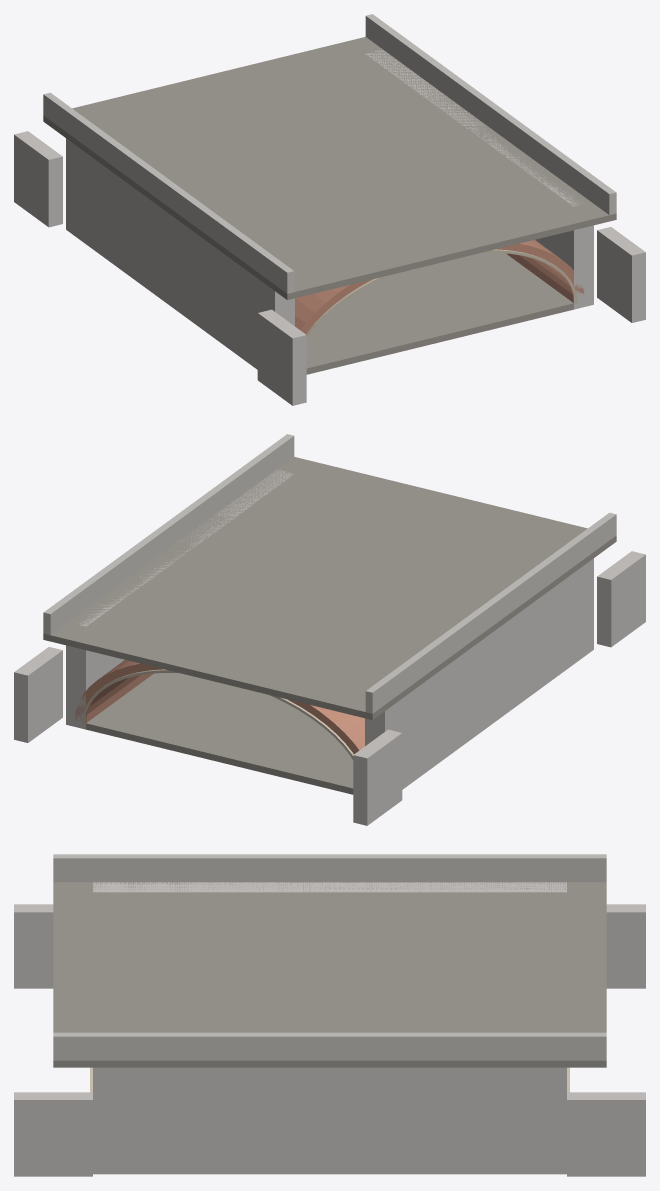
File: cp_winterdale_arch.glb
The picture shows the model from 3 angles, top to bottom: view 1: azimuth 30°, elevation 25°; view 2: azimuth 150°, elevation 25°; view 3: azimuth 270°, elevation 25°; orthographic projection. The views are drawn at different scales.
Parts seen in each view (by area): view 1: WinterdaleArch; view 2: WinterdaleArch; view 3: WinterdaleArch.
Boxes of the visible parts, <box> form: WinterdaleArch: <box>14,14,645,405</box>; WinterdaleArch: <box>14,434,645,825</box>; WinterdaleArch: <box>14,854,645,1176</box>.
Bounding box in the file's own units: 17.57 × 5.88 × 24.
